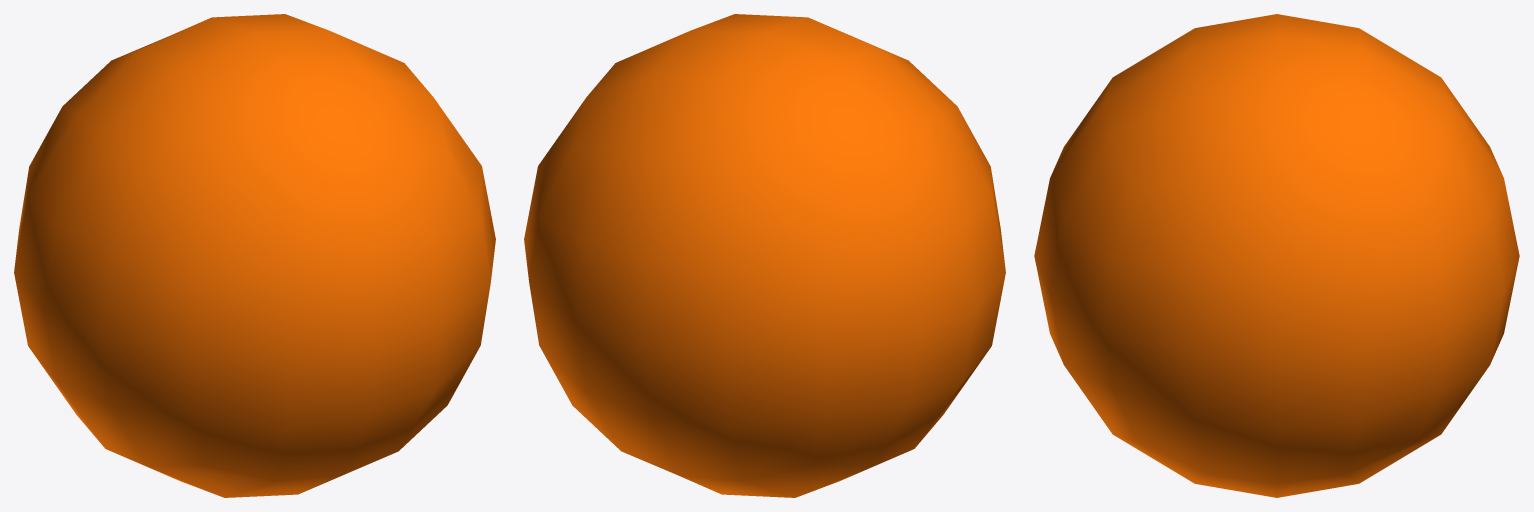
Rendered from 05orange.glb.
The picture shows the model from 3 angles, left to right: view 1: azimuth 30°, elevation 25°; view 2: azimuth 150°, elevation 25°; view 3: azimuth 270°, elevation 25°; orthographic projection.
Parts seen in each view (by area): view 1: 05-orange; view 2: 05-orange; view 3: 05-orange.
Boxes of the visible parts, x1,y1,x2,y2 form: 05-orange: (14, 14, 495, 497); 05-orange: (524, 14, 1005, 497); 05-orange: (1034, 14, 1519, 497).
Size of the model in its own units: 7.96 by 7.96 by 7.96.
